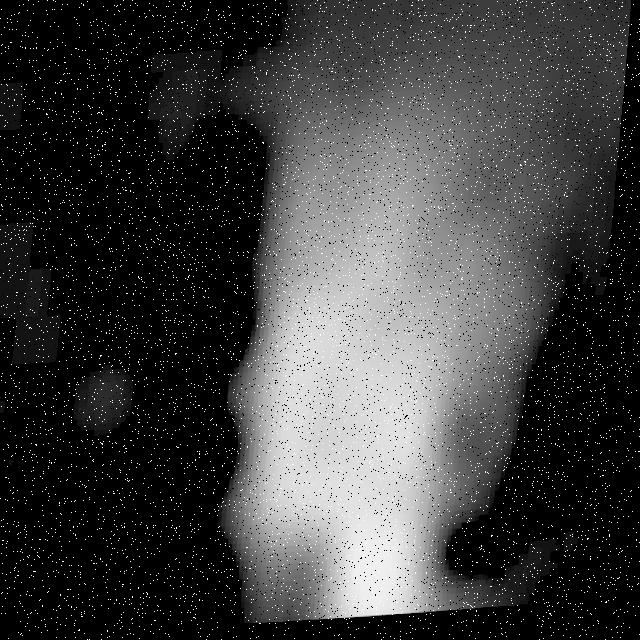person: (220, 51, 557, 630)
